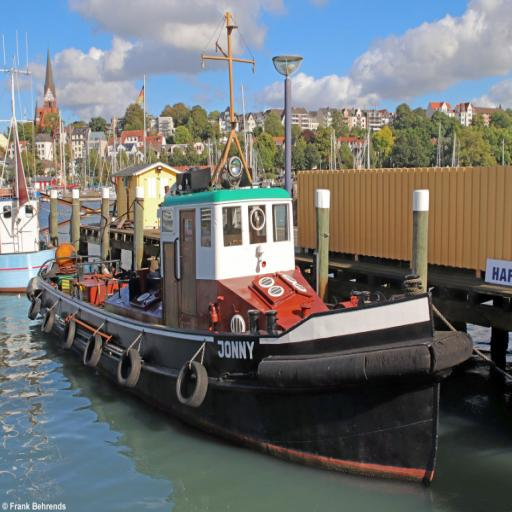tugboat: (25, 9, 478, 497)
